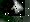person: (9, 1, 26, 17)
